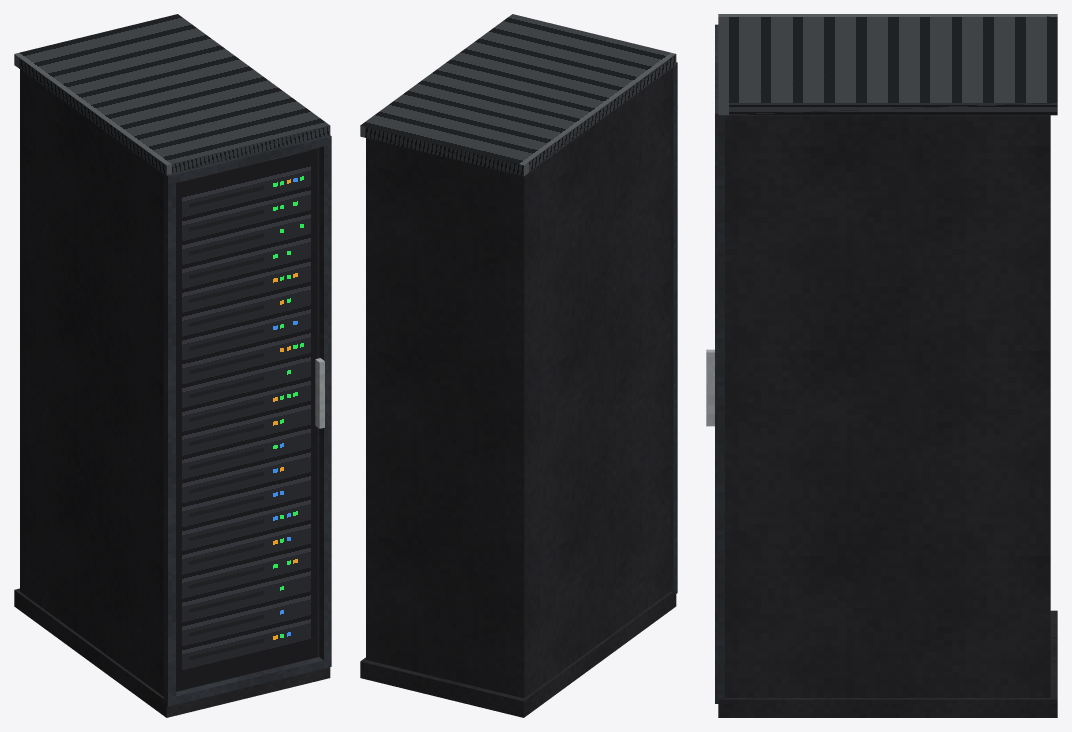
The model's file is tfg_server_rack.glb.
The picture shows the model from 3 angles, left to right: view 1: azimuth 30°, elevation 25°; view 2: azimuth 150°, elevation 25°; view 3: azimuth 270°, elevation 25°; orthographic projection. The views are drawn at different scales.
Visible parts, largest first — view 1: tfg_server_rack; view 2: tfg_server_rack; view 3: tfg_server_rack.
Boxes of the visible parts, <box> form: tfg_server_rack: <box>14,14,331,717</box>; tfg_server_rack: <box>360,14,677,717</box>; tfg_server_rack: <box>706,14,1057,717</box>.
Size of the model in its own units: 0.62 by 2 by 1.04.
Materials: 5 (5 with a texture image).
